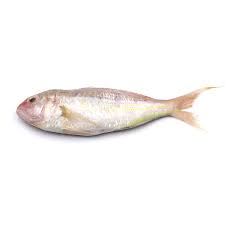Ikan Kerisi: (11, 74, 217, 147)
